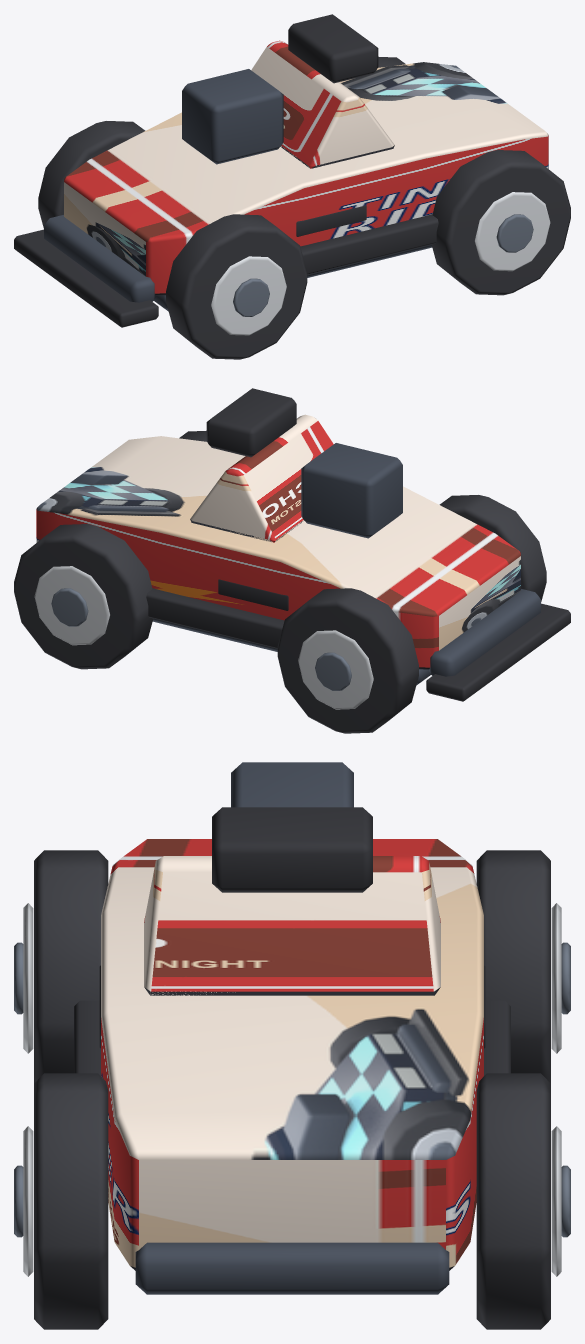
The picture shows the model from 3 angles, top to bottom: view 1: azimuth 30°, elevation 25°; view 2: azimuth 150°, elevation 25°; view 3: azimuth 270°, elevation 25°; orthographic projection. The views are drawn at different scales.
Visible parts, largest first — view 1: RR-04_connected_shell, Tire, Tire.002, RR-04_cabin, engine scoop, custom equipment, custom chin, custom side guard, front bumper, Tire.001, Rim.002, Rim (+4 smaller); view 2: RR-04_connected_shell, Tire.001, Tire.003, RR-04_cabin, engine scoop, custom equipment, custom chin, custom side guard.001, front bumper, Tire, Rim.003, Rim.001 (+4 smaller); view 3: RR-04_connected_shell, RR-04_cabin, Tire.002, Tire.003, rear bumper, custom equipment, Tire, Tire.001, engine scoop, custom side guard, custom side guard.001, Rim.002 (+7 smaller).
Part boxes in pixels (<box>): RR-04_connected_shell: <box>64,62,548,295</box>; Tire: <box>166,214,307,359</box>; Tire.002: <box>431,150,570,295</box>; RR-04_cabin: <box>251,40,394,168</box>; engine scoop: <box>182,69,283,164</box>; custom equipment: <box>288,14,378,83</box>; custom chin: <box>14,229,158,327</box>; custom side guard: <box>300,214,438,274</box>; front bumper: <box>44,215,155,302</box>; Tire.001: <box>38,121,145,227</box>; Rim.002: <box>475,192,550,271</box>; Rim: <box>211,256,286,335</box>; RR-04_connected_shell: <box>36,436,520,669</box>; Tire.001: <box>277,588,418,733</box>; Tire.003: <box>14,524,153,669</box>; RR-04_cabin: <box>190,414,333,542</box>; engine scoop: <box>301,443,402,538</box>; custom equipment: <box>206,388,296,457</box>; custom chin: <box>426,603,570,701</box>; custom side guard.001: <box>146,588,284,648</box>; front bumper: <box>429,589,540,676</box>; Tire: <box>439,495,546,601</box>; Rim.003: <box>34,566,109,645</box>; Rim.001: <box>298,630,373,709</box>; RR-04_connected_shell: <box>101,839,483,1270</box>; RR-04_cabin: <box>144,856,440,995</box>; Tire.002: <box>34,1073,108,1329</box>; Tire.003: <box>476,1073,550,1329</box>; rear bumper: <box>135,1242,449,1294</box>; custom equipment: <box>212,807,372,892</box>; Tire: <box>34,850,108,1083</box>; Tire.001: <box>476,850,550,1083</box>; engine scoop: <box>231,762,353,807</box>; custom side guard: <box>74,1000,100,1075</box>; custom side guard.001: <box>484,1000,510,1075</box>; Rim.002: <box>23,1126,33,1276</box>.
Bounding box in the file's own units: 317 × 156 × 195.
